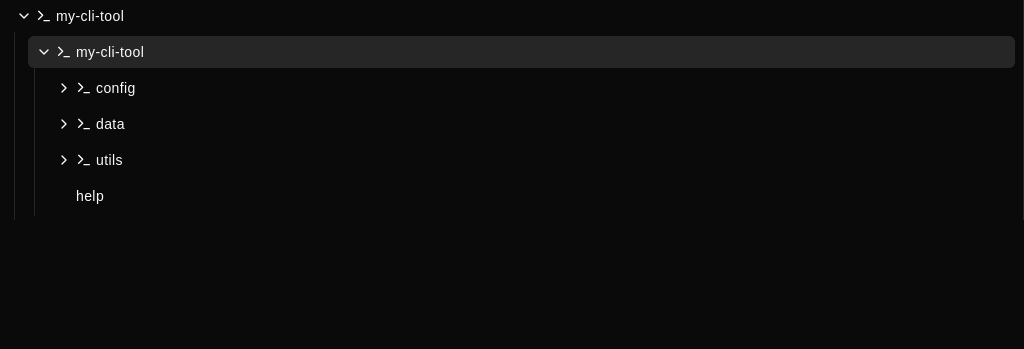
Test: CommandTree › Command Tree Structure Tests › hides subcommands when parent is collapsed
Click the 3rd button: (64, 88) [56,80,72,96]
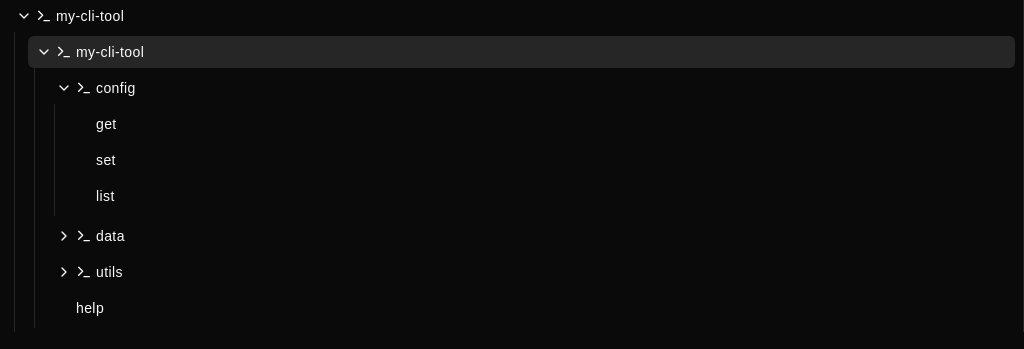
Check: the text "get" is shown, box [96,116,117,132]
Click the 3rd button: (64, 88) [56,80,72,96]
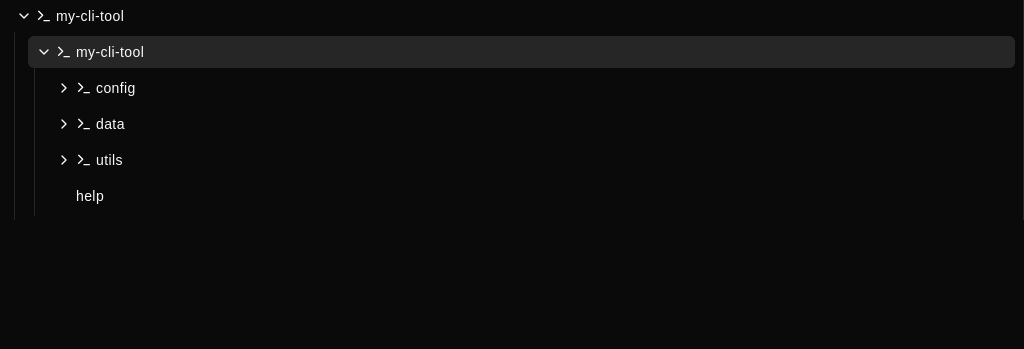
Check: the button "get" is gone
